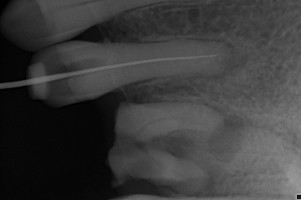Endo-Periodontal Lesion: (152, 135, 194, 160)
Furcation Involvement: (208, 115, 246, 162), (212, 44, 249, 78)
